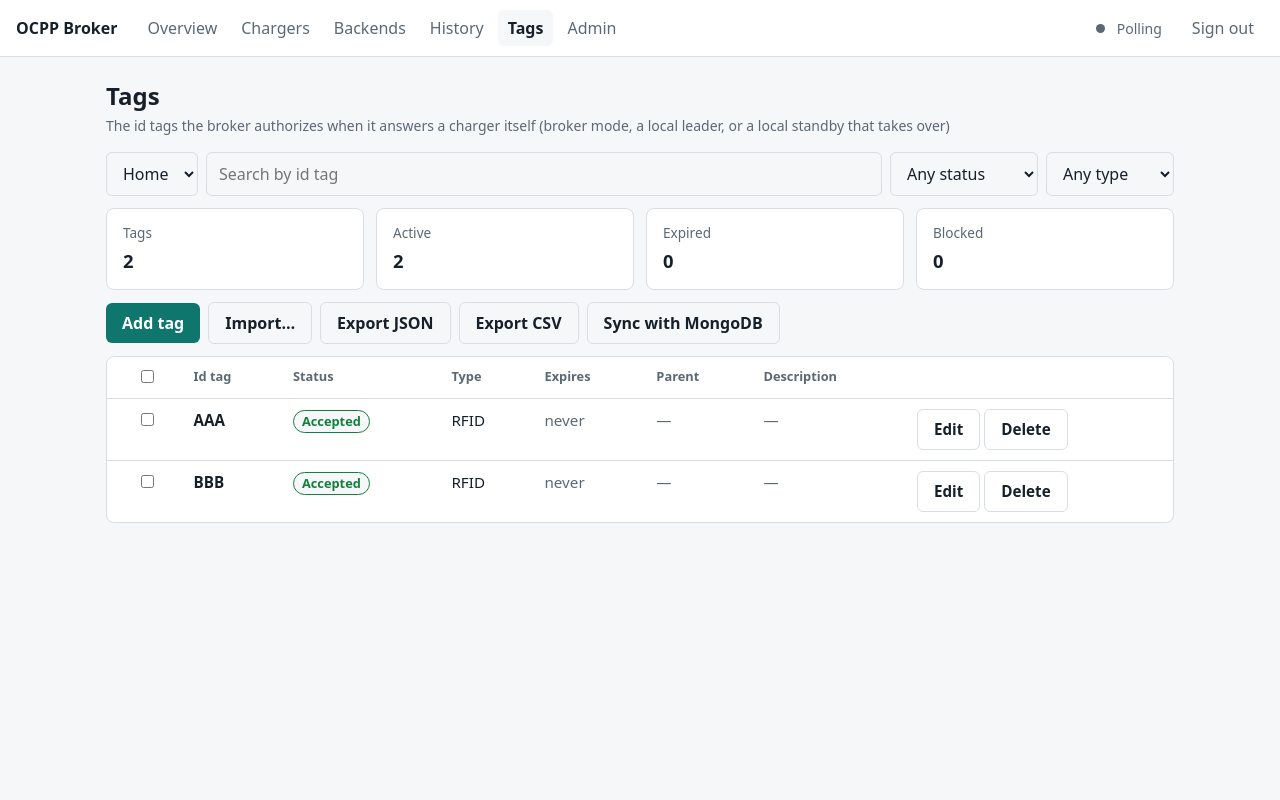
Test: deleting and bulk changes › forgets the selection when the filters change
The image size is (1280, 800).
Expected: the heading "Tags" is shown, [106,79,160,112]
Expected: the row "AAA Accepted RFID never — — Edit Delete" is shown, [107,399,1173,460]
Click the checkbox named "Select AAA". click: {"x": 147, "y": 420}
box: [125,413,170,426]
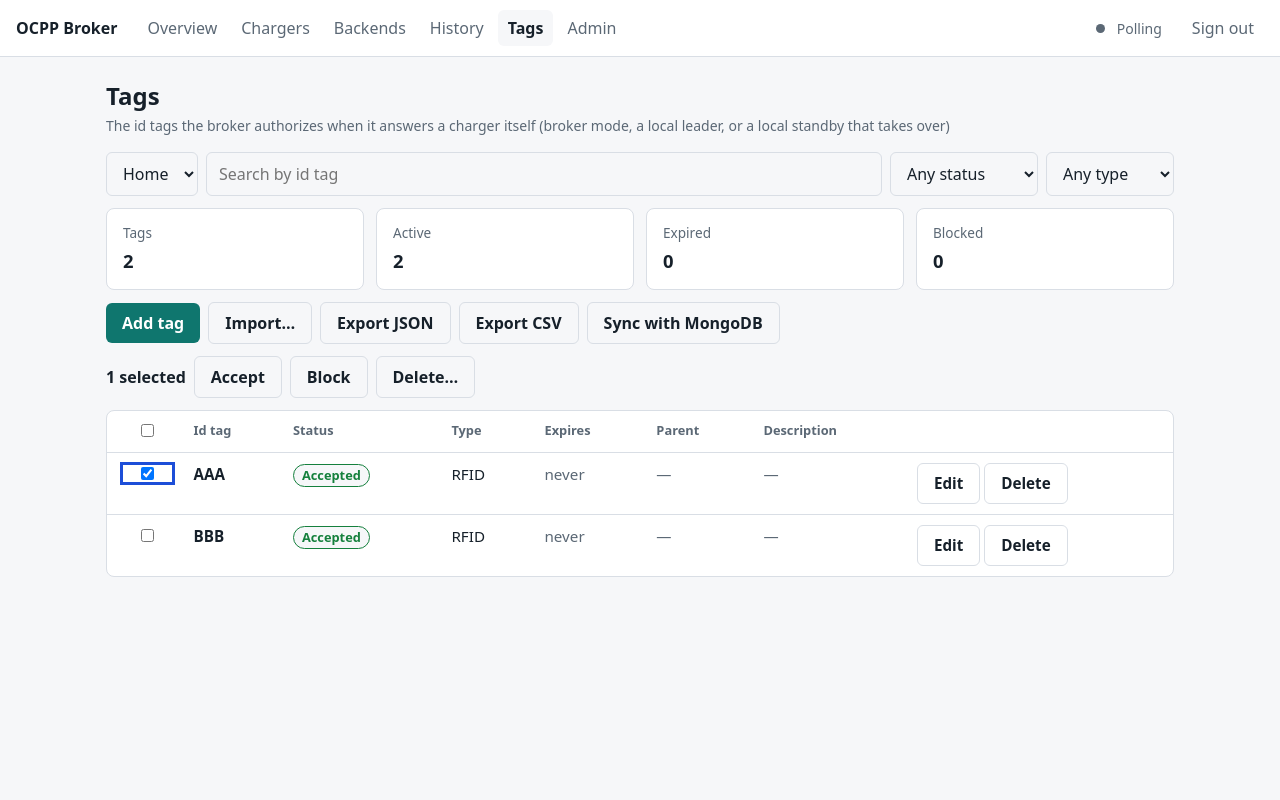
Result: the text "1 selected" is shown at [106,365,186,389]
Type "A" into the search field named "Search tags". click: {"x": 544, "y": 174}
box: [206,152,882,196]
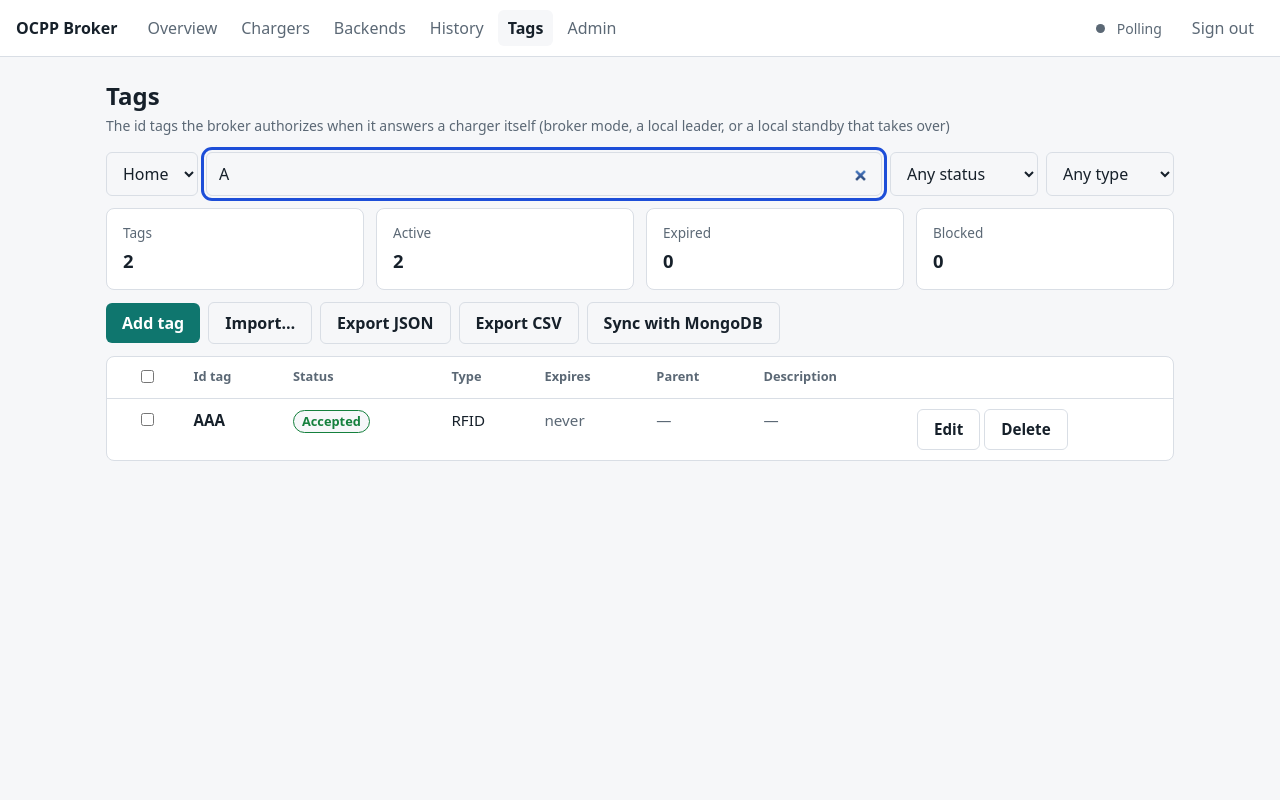
Result: the text "1 selected" is gone
